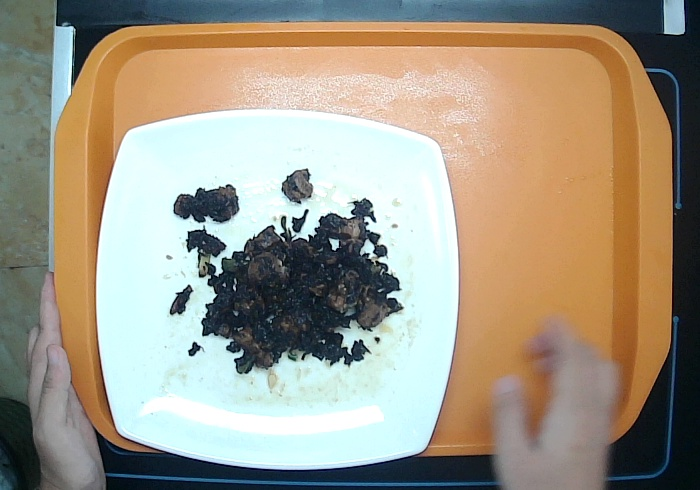ZNLD-Bai_Fang_Pan: (91, 105, 461, 474)
